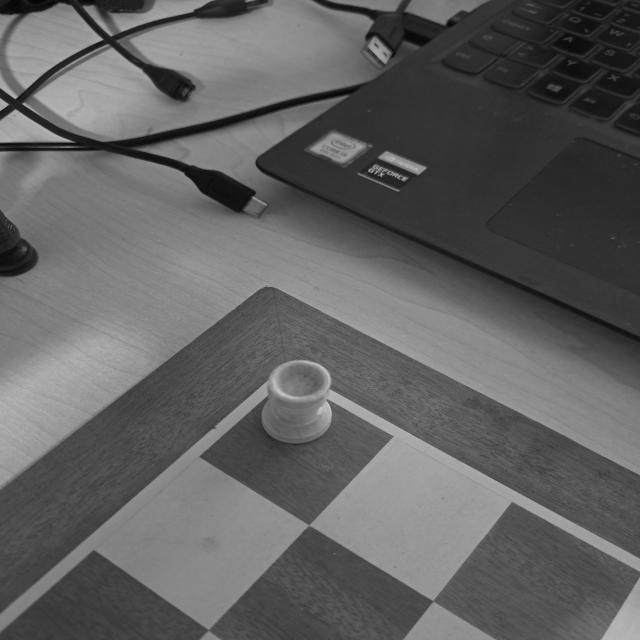chess-table-corners: (214, 352, 376, 428)
